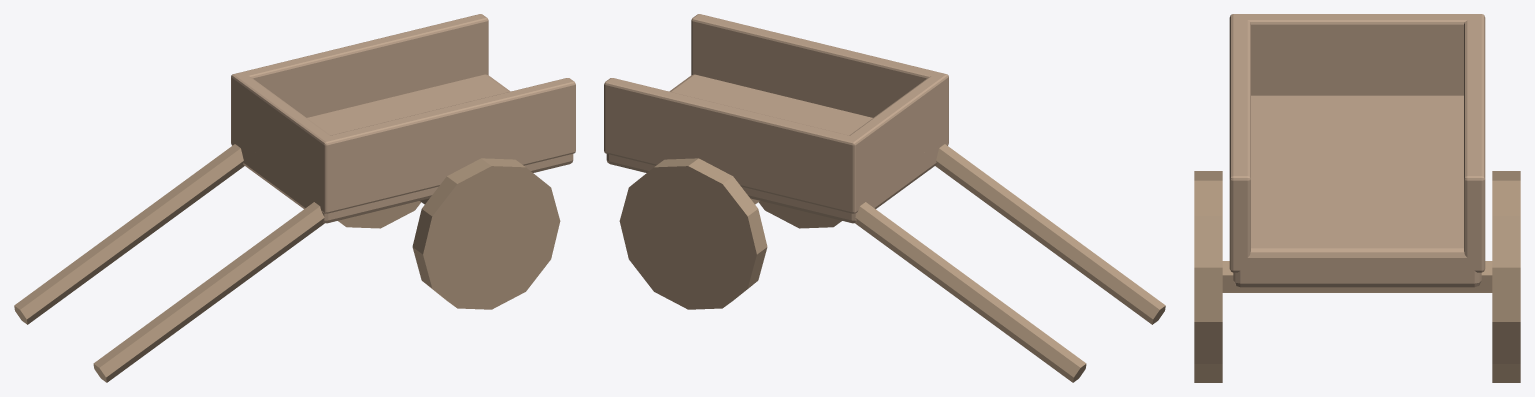
Rendered from handcart.glb.
The picture shows the model from 3 angles, left to right: view 1: azimuth 30°, elevation 25°; view 2: azimuth 150°, elevation 25°; view 3: azimuth 270°, elevation 25°; orthographic projection. The views are drawn at different scales.
Visible parts, largest first — view 1: handcart_plank, handcart_wood; view 2: handcart_plank, handcart_wood; view 3: handcart_plank, handcart_wood.
Part boxes in pixels (x1,y1,x2,y2): handcart_plank: (231, 14, 575, 223); handcart_wood: (14, 144, 560, 382); handcart_plank: (604, 14, 948, 223); handcart_wood: (619, 144, 1165, 382); handcart_plank: (1229, 14, 1485, 287); handcart_wood: (1194, 171, 1520, 382).
Size of the model in its own units: 0.6883 by 0.27 by 0.3067.
